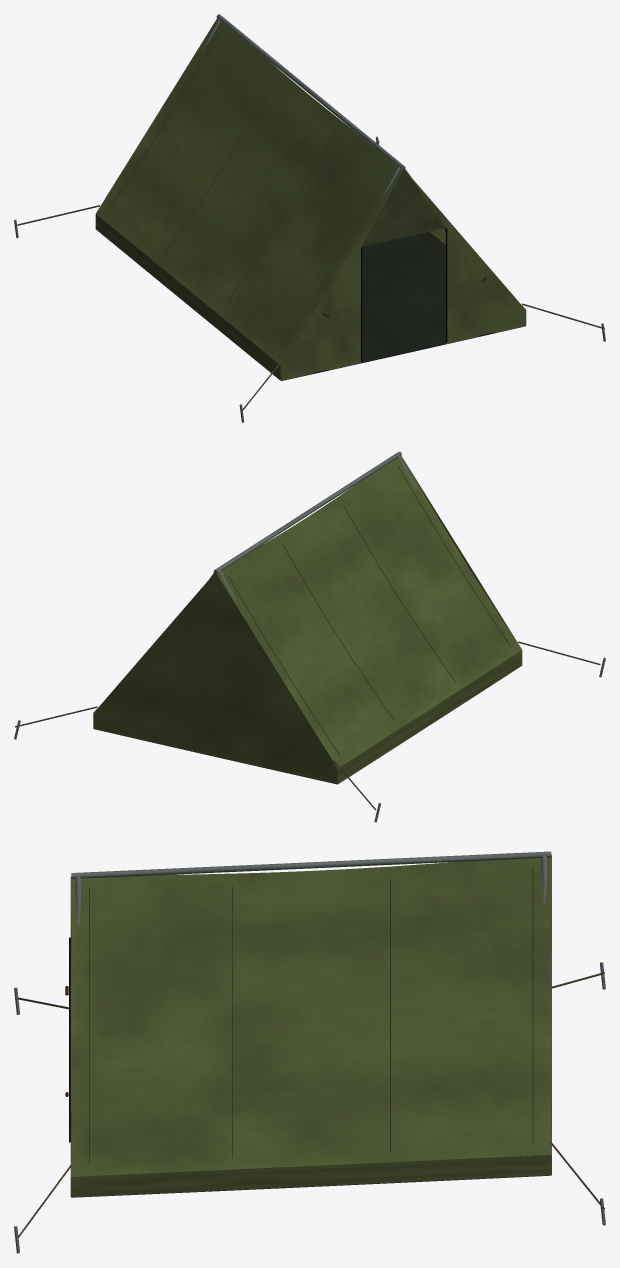
The model's file is level_camp_tent_fitted_pitch_03.glb.
The picture shows the model from 3 angles, top to bottom: view 1: azimuth 30°, elevation 25°; view 2: azimuth 150°, elevation 25°; view 3: azimuth 270°, elevation 25°; orthographic projection. The views are drawn at different scales.
Visible parts, largest first — view 1: level_camp_tent_fitted_pitch_03; view 2: level_camp_tent_fitted_pitch_03; view 3: level_camp_tent_fitted_pitch_03.
Boxes of the visible parts, left/top/right/bottom form: level_camp_tent_fitted_pitch_03: left=14, top=14, right=605, bottom=422; level_camp_tent_fitted_pitch_03: left=14, top=451, right=605, bottom=822; level_camp_tent_fitted_pitch_03: left=14, top=851, right=605, bottom=1253.
Bounding box in the file's own units: 3.9 × 2.24 × 4.19.
8 materials, 8 textured.
